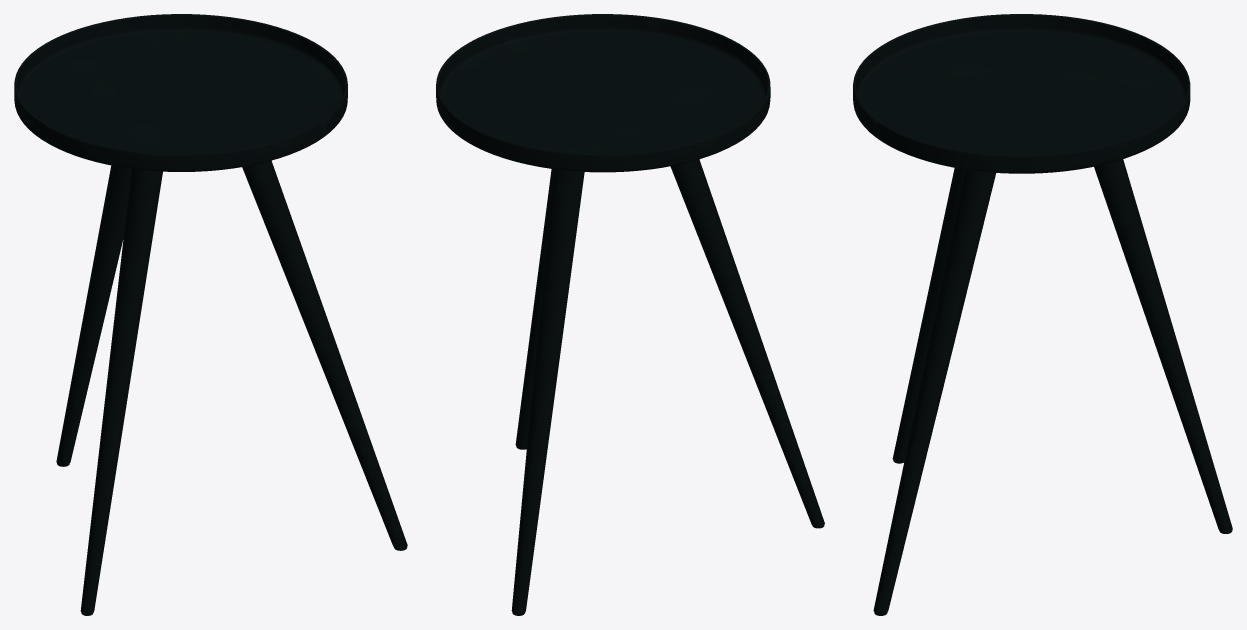
File: table_appoint.glb
3 views of the same model, side by side, from view 1: azimuth 30°, elevation 25°; view 2: azimuth 150°, elevation 25°; view 3: azimuth 270°, elevation 25° (orthographic).
Parts seen in each view (by area): view 1: RootNode; view 2: RootNode; view 3: RootNode.
Part boxes in pixels (x1,y1,x2,y2): RootNode: (14,14,407,615); RootNode: (436,14,824,615); RootNode: (853,14,1232,615).
Bounding box in the file's own units: 0.4027 × 0.5483 × 0.4147.
1 material, 1 textured.
